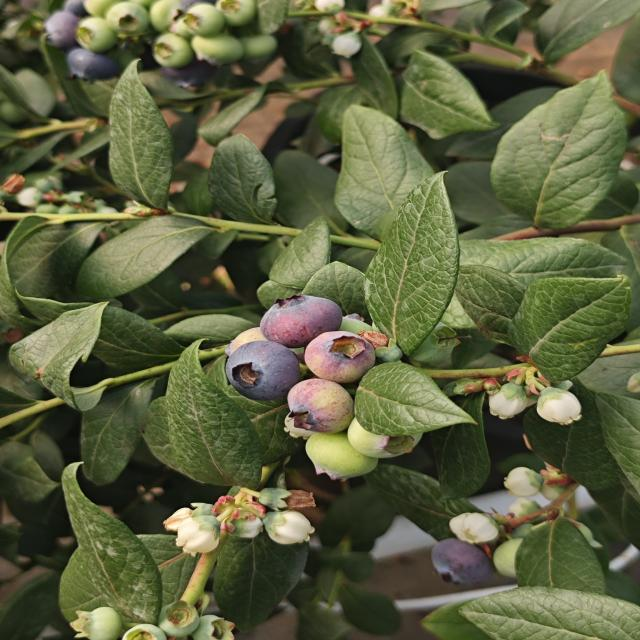ripe: (247, 275, 348, 342), (219, 330, 303, 400), (26, 0, 99, 52), (428, 534, 494, 590), (56, 48, 128, 90)
